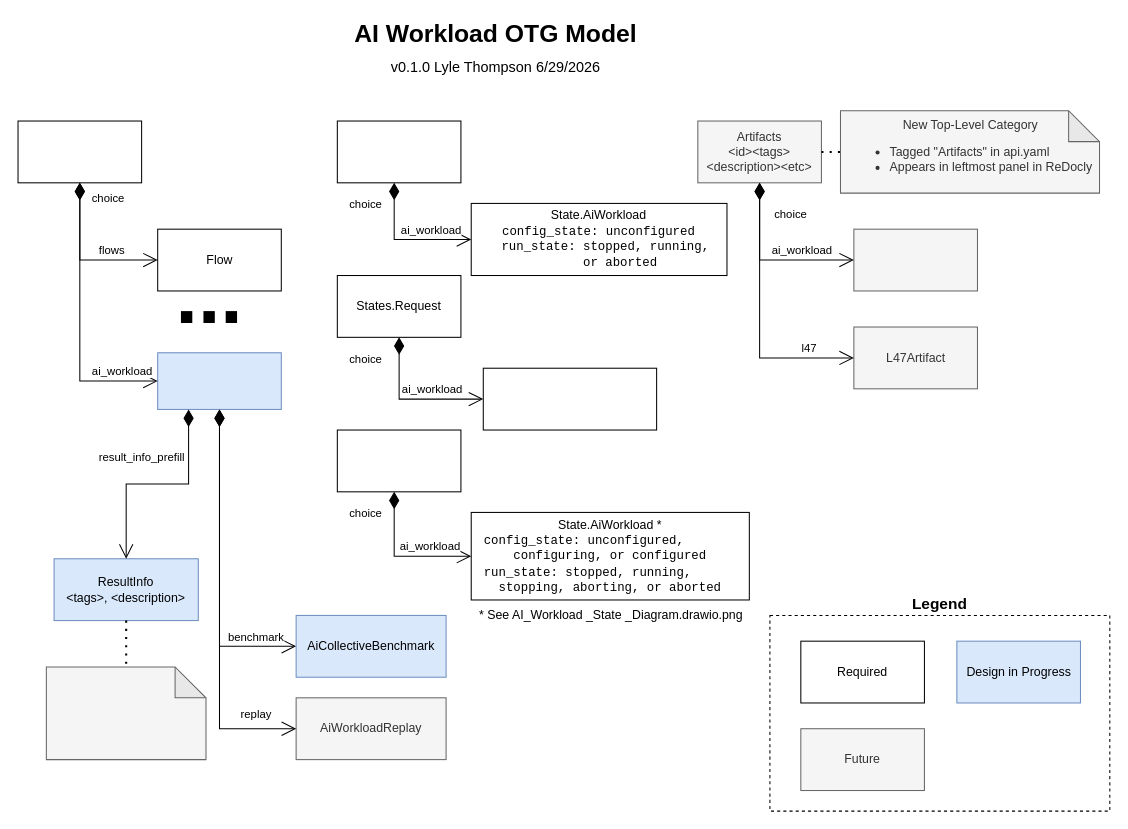
The diagram is 1128 pixels wide and 829 high, and some of its shapes have lost their labels. The centre of each missing label's shape, as x and y in pixels:
AiWorkload: (x=219, y=380)
AiWorkload.State.Request: (x=569, y=398)
AiWorkloadArtifacts: (x=915, y=259)
Config: (x=79, y=151)
Control.State: (x=398, y=151)
Copied into AiWorkloadResult at start of each run w/ this config: (x=125, y=713)
States.Response: (x=398, y=460)
